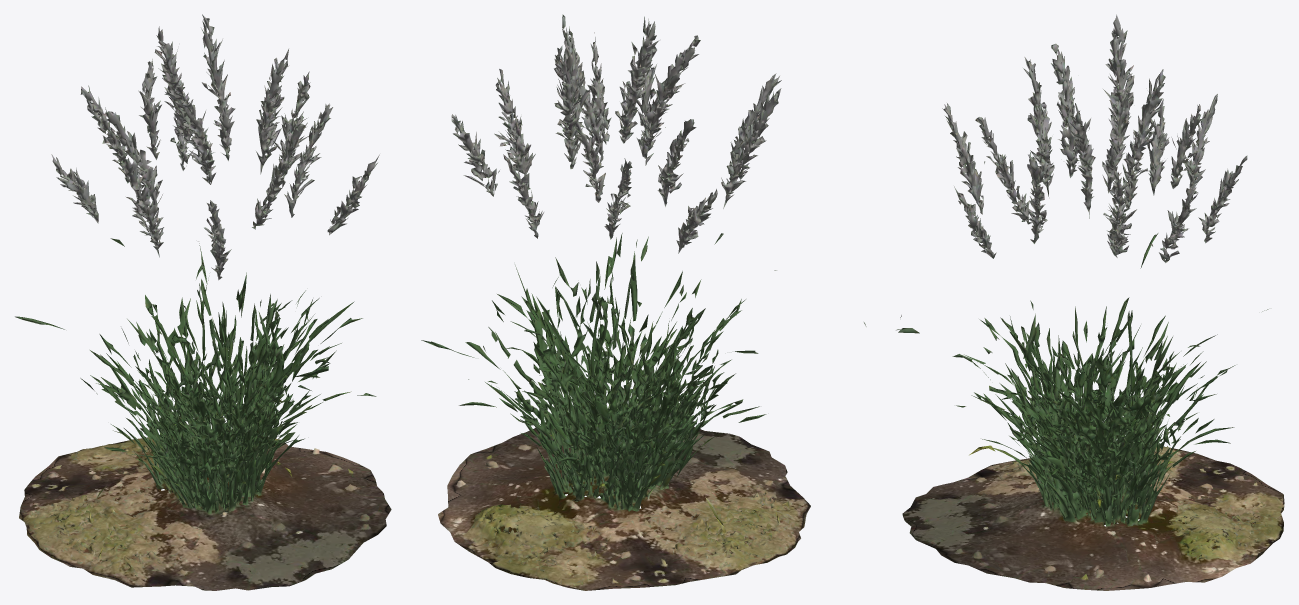
Rendered from grass_b.0.glb.
3 renders of one model, left to right at view 1: azimuth 30°, elevation 25°; view 2: azimuth 150°, elevation 25°; view 3: azimuth 270°, elevation 25°, orthographic. The views are drawn at different scales.
Parts seen in each view (by area): view 1: geometry_0; view 2: geometry_0; view 3: geometry_0.
Boxes of the visible parts, x1,y1,x2,y2 form: geometry_0: (15,14,391,590); geometry_0: (421,14,866,590); geometry_0: (896,14,1284,590).
Size of the model in its own units: 0.6409 by 0.8912 by 0.6353.
Materials: 1 (1 with a texture image).
